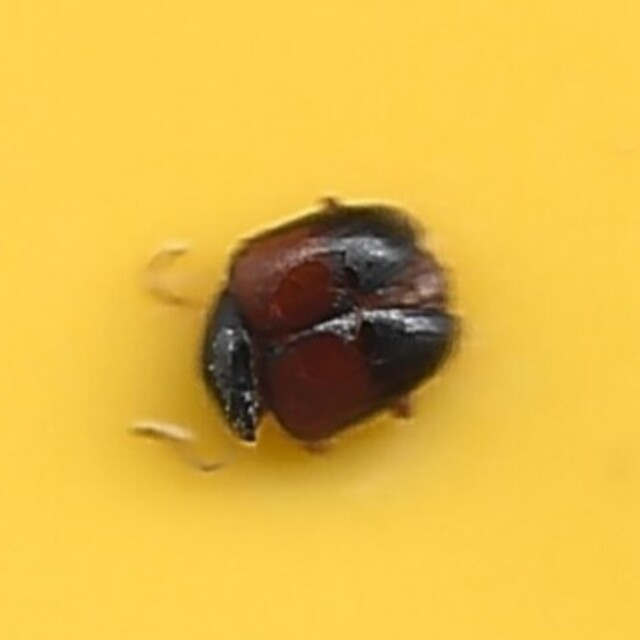Coleoptera: (178, 187, 462, 453)
